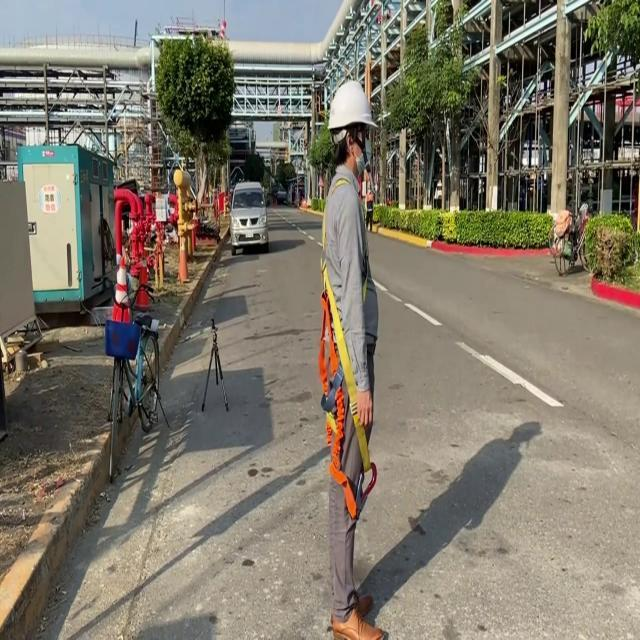Harness: (319, 264, 372, 520)
